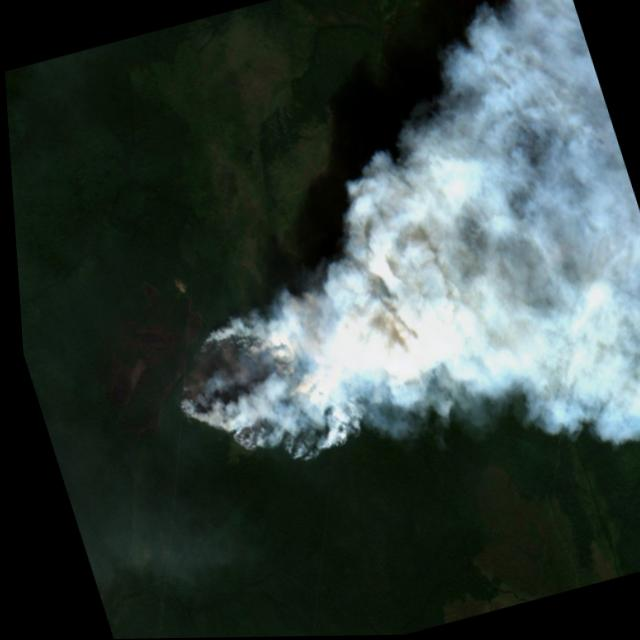fire: (143, 293, 358, 498), (483, 200, 569, 286), (542, 120, 604, 174)
